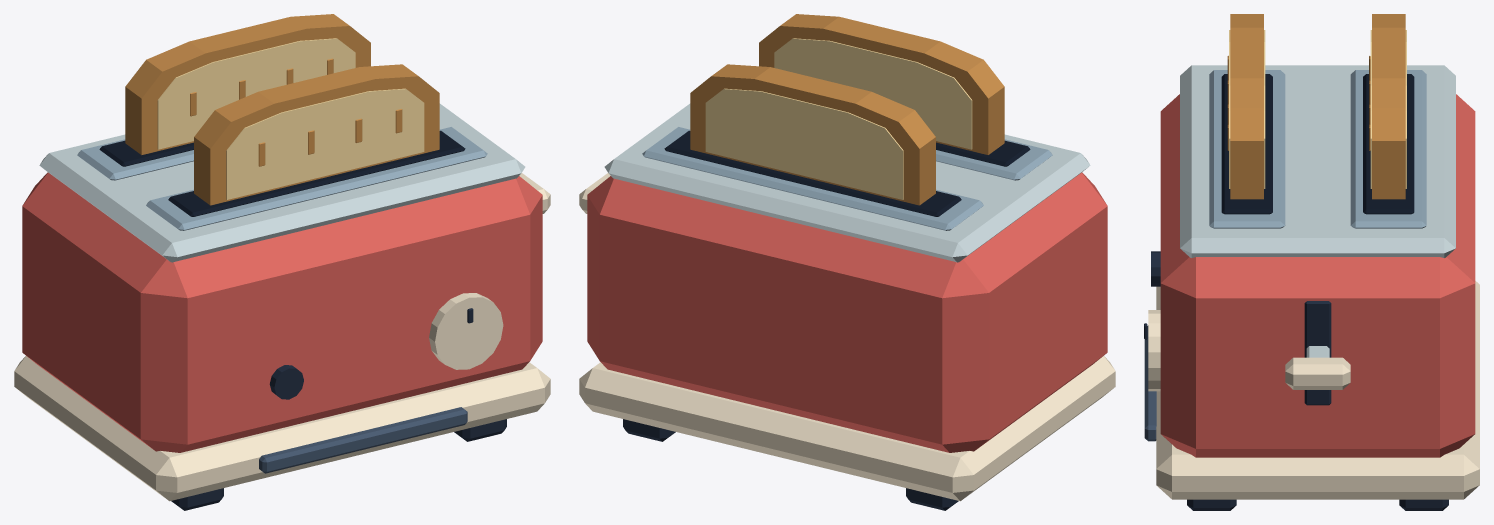
The model's file is Toaster.glb.
3 renders of one model, left to right at view 1: azimuth 30°, elevation 25°; view 2: azimuth 150°, elevation 25°; view 3: azimuth 270°, elevation 25°, orthographic. The views are drawn at different scales.
Parts seen in each view (by area): view 1: Toaster; view 2: Toaster; view 3: Toaster.
Boxes of the visible parts, x1,y1,x2,y2 form: Toaster: [14, 14, 550, 510]; Toaster: [579, 14, 1115, 510]; Toaster: [1144, 14, 1479, 510].
Size of the model in its own units: 3.07 by 2.36 by 1.9.
Materials: 1 (1 with a texture image).
